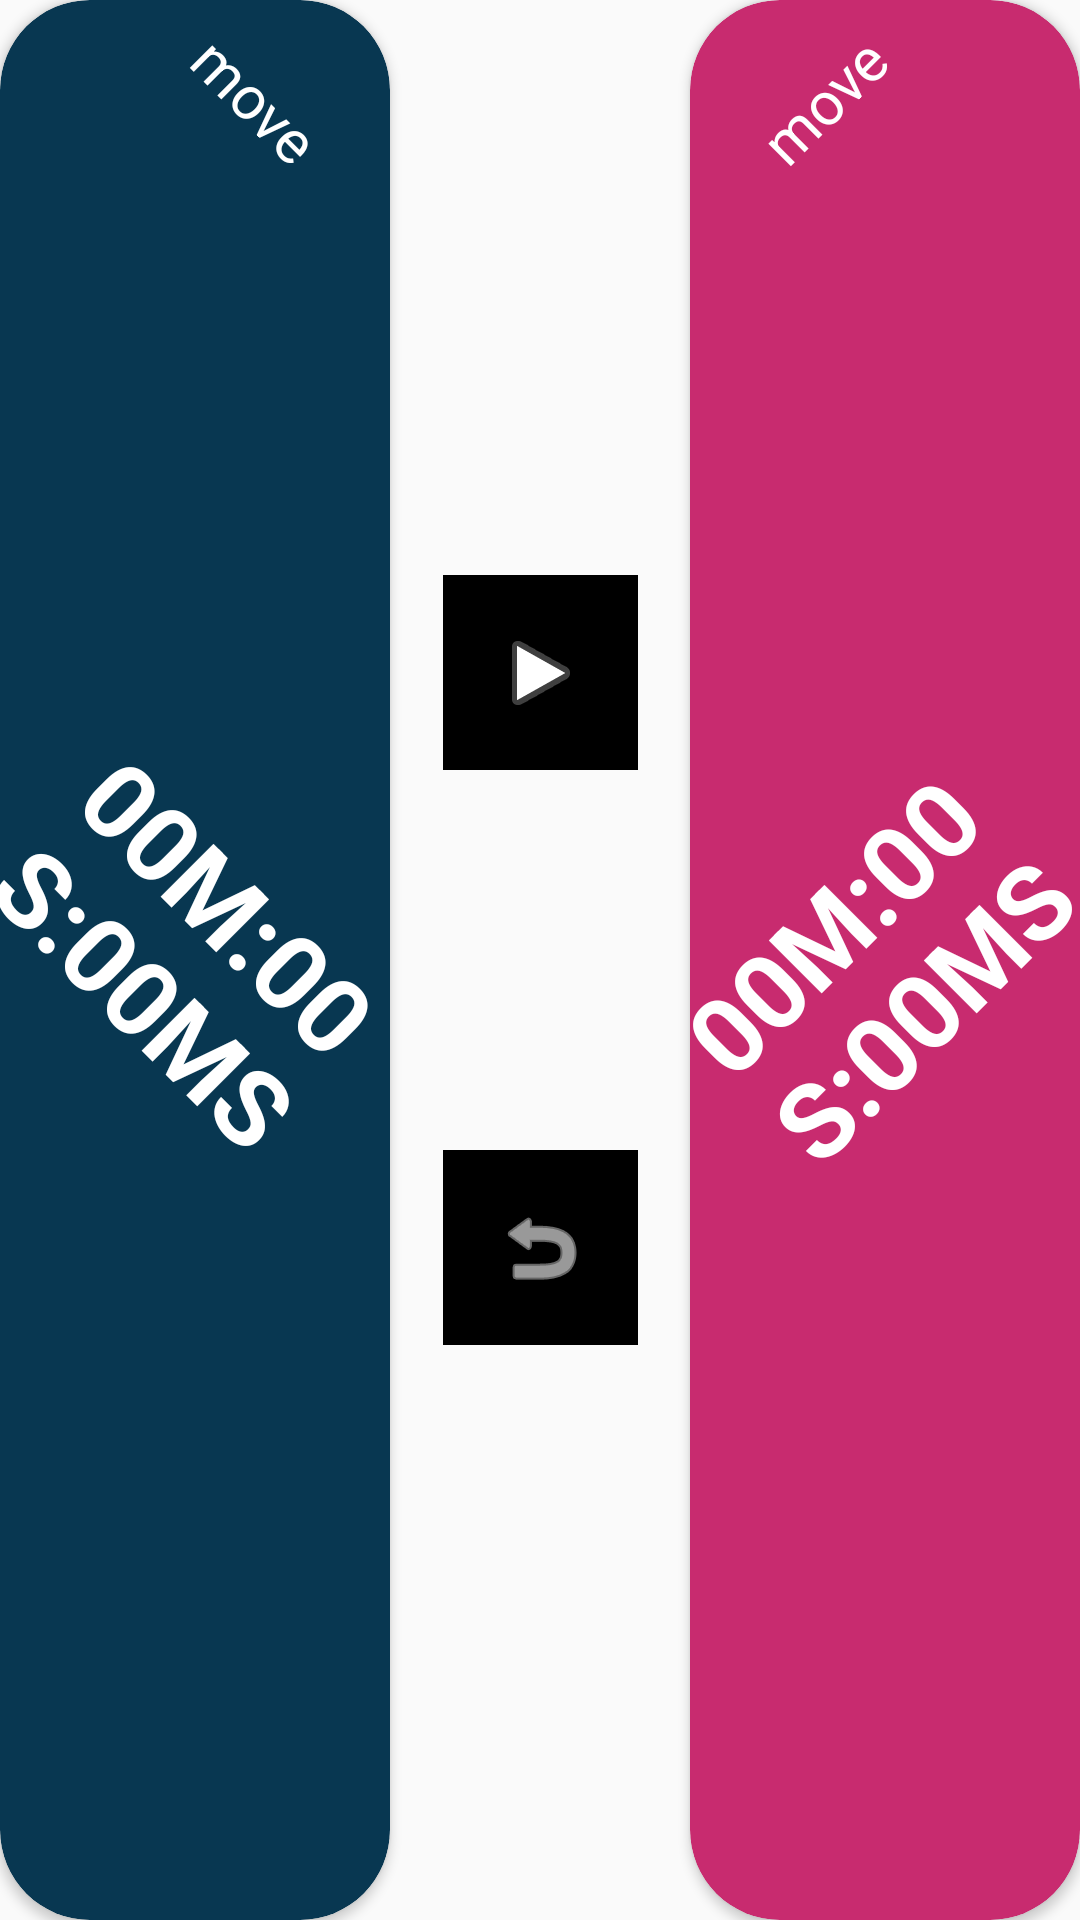

Screen size 1080×1920. Icon name, then its center in pixels as point (x, y):
Restart: point (540, 1247)
